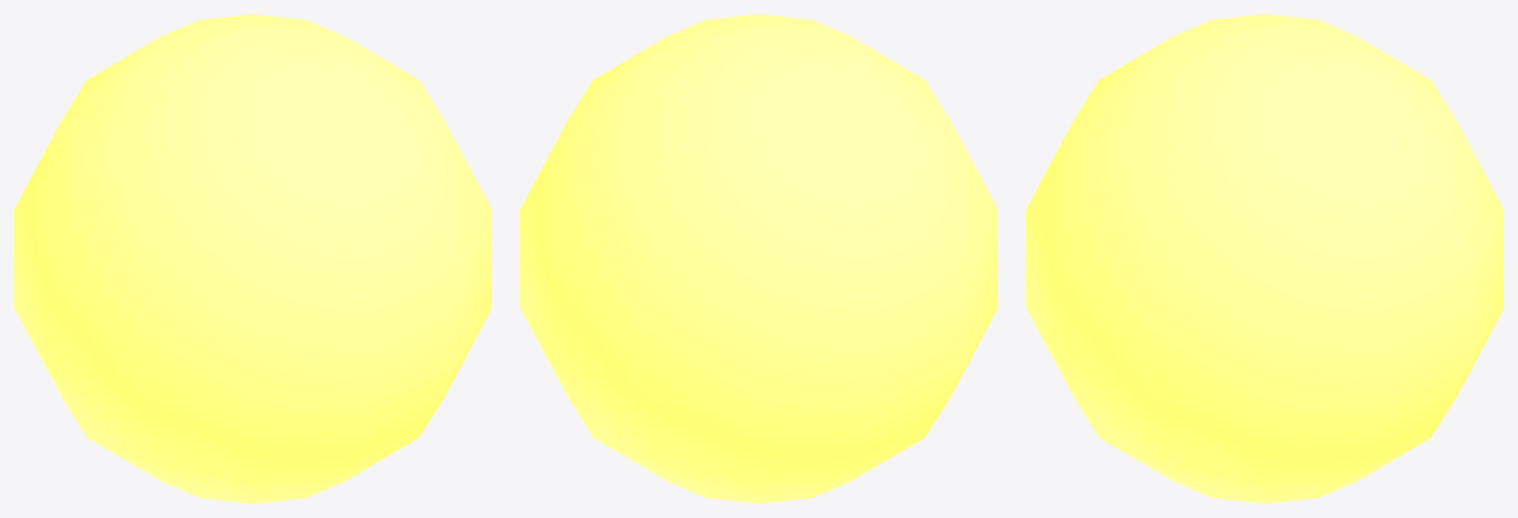
Rendered from acid_glob.glb.
The picture shows the model from 3 angles, left to right: view 1: azimuth 30°, elevation 25°; view 2: azimuth 150°, elevation 25°; view 3: azimuth 270°, elevation 25°; orthographic projection.
Parts seen in each view (by area): view 1: Glob; view 2: Glob; view 3: Glob.
Part boxes in pixels (x1,y1,x2,y2): Glob: (14, 14, 491, 503); Glob: (520, 14, 997, 503); Glob: (1026, 14, 1503, 503).
Bounding box in the file's own units: 0.39 × 0.4 × 0.39.
